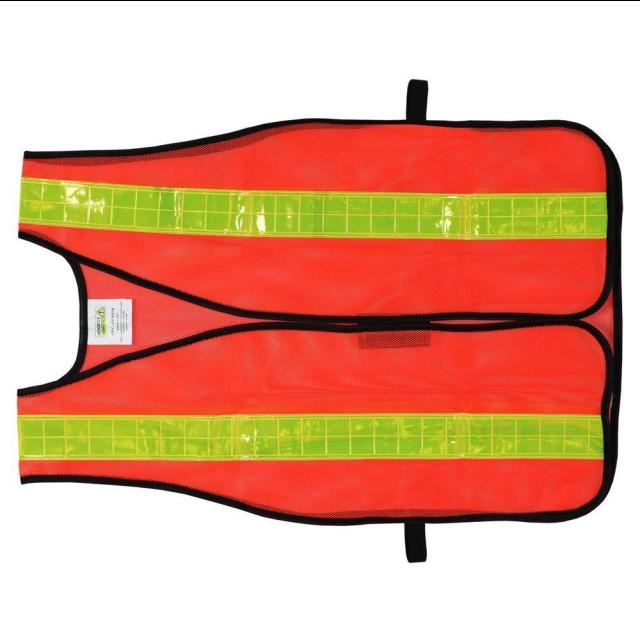jacket: (7, 79, 624, 538)
